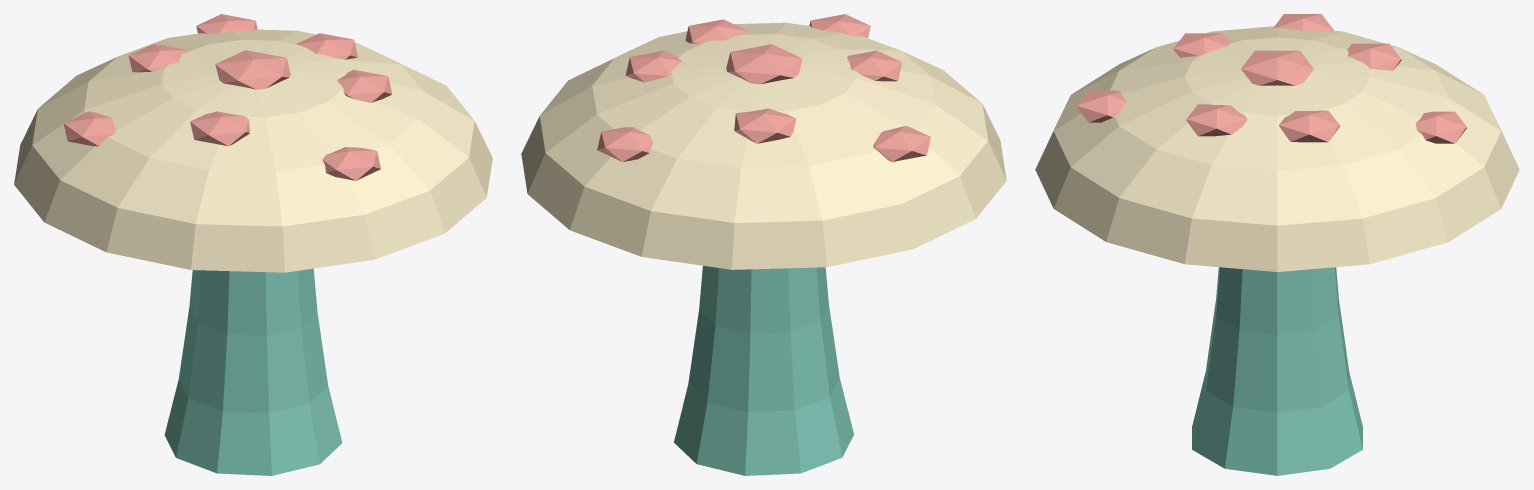
File: bounceshroom.glb
3 renders of one model, left to right at view 1: azimuth 30°, elevation 25°; view 2: azimuth 150°, elevation 25°; view 3: azimuth 270°, elevation 25°, orthographic.
Visible parts, largest first — view 1: CapTop, Stalk, SpotTop, Spot4, Spot5, Spot3, Spot6, Spot2, Spot0, Spot1; view 2: CapTop, Stalk, SpotTop, Spot2, Spot3, Spot1, Spot0, Spot4, Spot6, Spot5; view 3: CapTop, Stalk, SpotTop, Spot0, Spot6, Spot1, Spot5, Spot2, Spot4, Spot3.
Part boxes in pixels (left/top/right/bottom): CapTop: left=14, top=29, right=492, bottom=272; Stalk: left=164, top=268, right=342, bottom=475; SpotTop: left=215, top=50, right=290, bottom=89; Spot4: left=190, top=111, right=249, bottom=146; Spot5: left=322, top=147, right=380, bottom=180; Spot3: left=63, top=111, right=115, bottom=146; Spot6: left=337, top=70, right=392, bottom=102; Spot2: left=128, top=44, right=187, bottom=72; Spot0: left=296, top=33, right=357, bottom=59; Spot1: left=196, top=14, right=257, bottom=33; CapTop: left=521, top=22, right=1006, bottom=269; Stalk: left=674, top=265, right=853, bottom=475; SpotTop: left=726, top=44, right=802, bottom=84; Spot2: left=734, top=108, right=796, bottom=143; Spot3: left=873, top=126, right=930, bottom=161; Spot1: left=597, top=127, right=652, bottom=161; Spot0: left=625, top=50, right=682, bottom=82; Spot4: left=847, top=50, right=902, bottom=81; Spot6: left=685, top=19, right=748, bottom=43; Spot5: left=809, top=14, right=870, bottom=37; CapTop: left=1035, top=26, right=1519, bottom=271; Stalk: left=1192, top=267, right=1362, bottom=475; SpotTop: left=1241, top=50, right=1313, bottom=85; Spot0: left=1278, top=110, right=1339, bottom=142; Spot6: left=1186, top=104, right=1247, bottom=136; Spot1: left=1415, top=111, right=1466, bottom=143; Spot5: left=1077, top=90, right=1126, bottom=122; Spot2: left=1347, top=43, right=1401, bottom=70; Spot4: left=1173, top=33, right=1230, bottom=57; Spot3: left=1274, top=14, right=1333, bottom=31.
Size of the model in its own units: 2.7 by 2.34 by 2.7.
